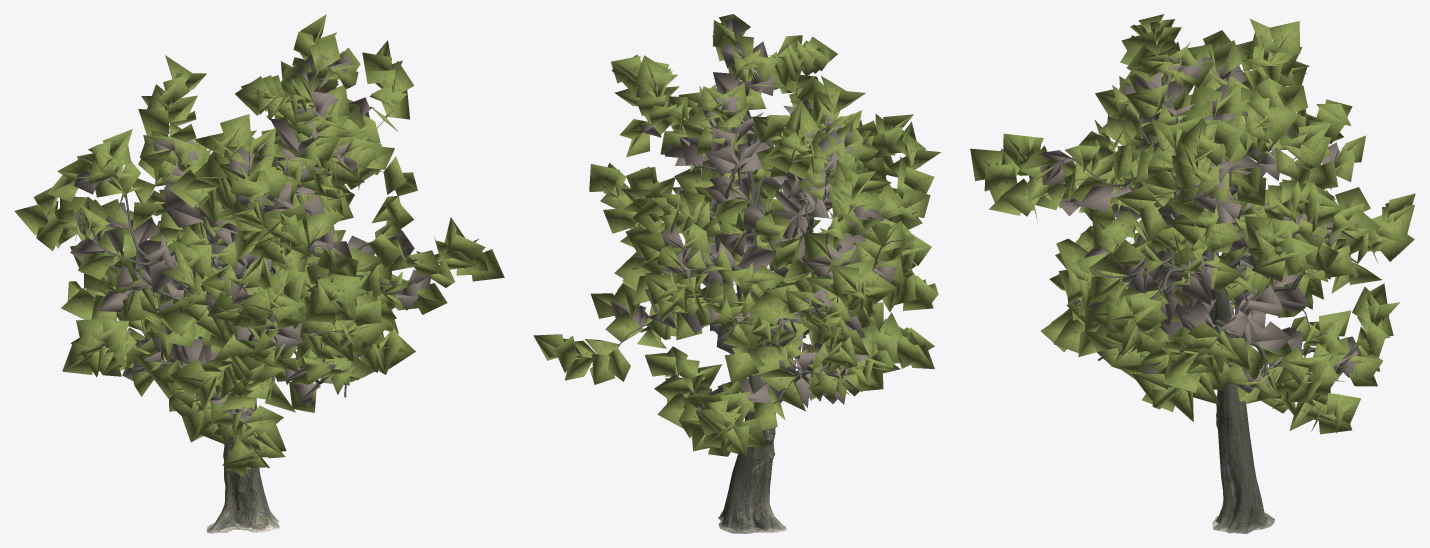
Rendered from sm_Tree_02_01.fbx.
The picture shows the model from 3 angles, left to right: view 1: azimuth 30°, elevation 25°; view 2: azimuth 150°, elevation 25°; view 3: azimuth 270°, elevation 25°; orthographic projection. The views are drawn at different scales.
Parts seen in each view (by area): view 1: sm_Tree_02_01_LOD0; view 2: sm_Tree_02_01_LOD0; view 3: sm_Tree_02_01_LOD0.
Part boxes in pixels (x1,y1,x2,y2): sm_Tree_02_01_LOD0: (14, 14, 504, 533); sm_Tree_02_01_LOD0: (533, 14, 941, 533); sm_Tree_02_01_LOD0: (970, 14, 1415, 533).
Size of the model in its own units: 1243 by 1213 by 1515.
